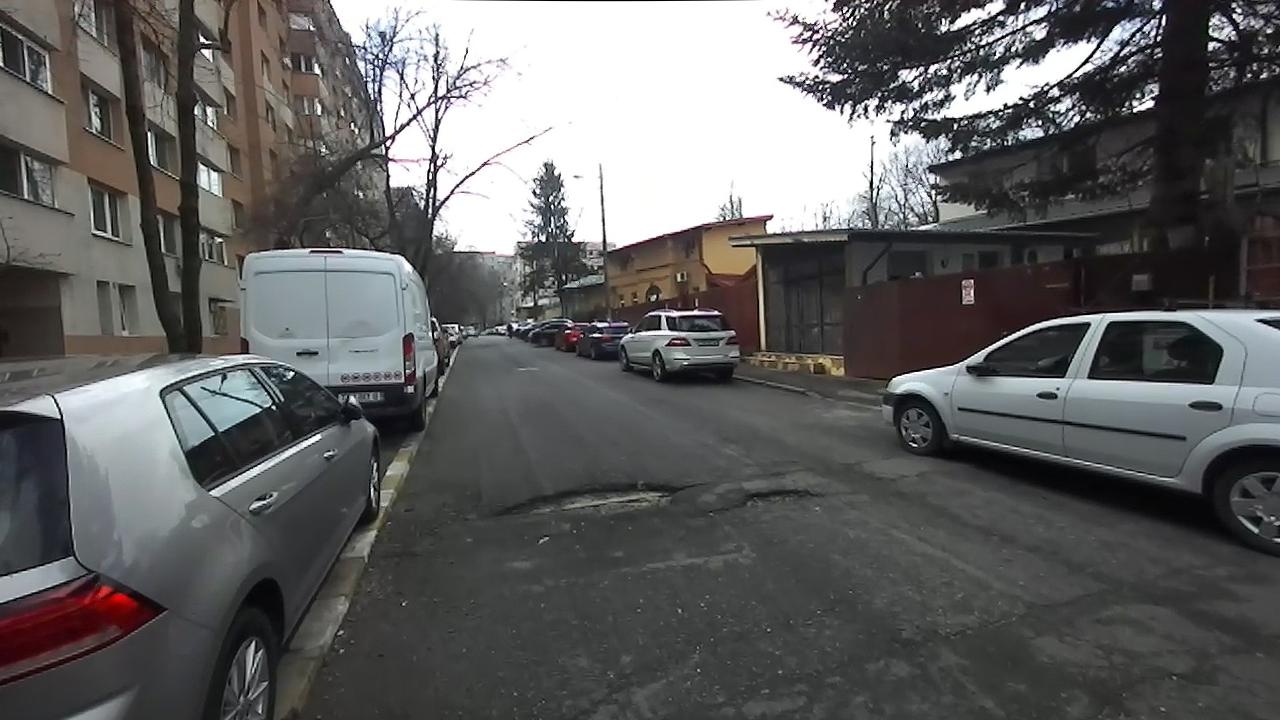pothole: (490, 478, 704, 528), (706, 484, 827, 518)
